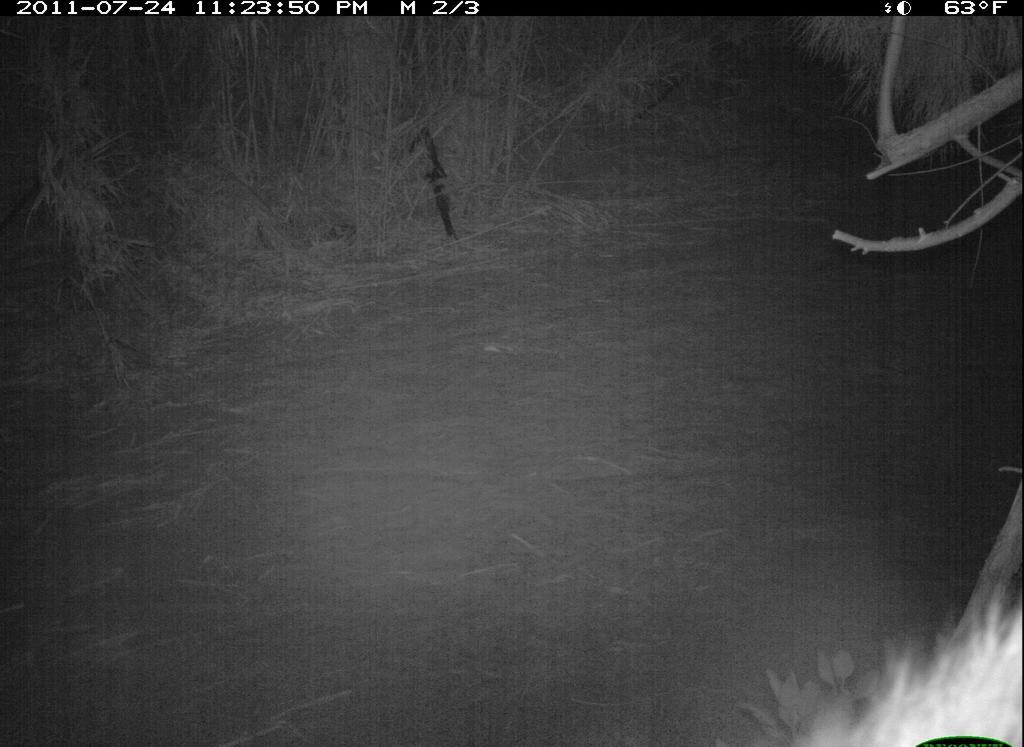raccoon: (748, 610, 1022, 747)
